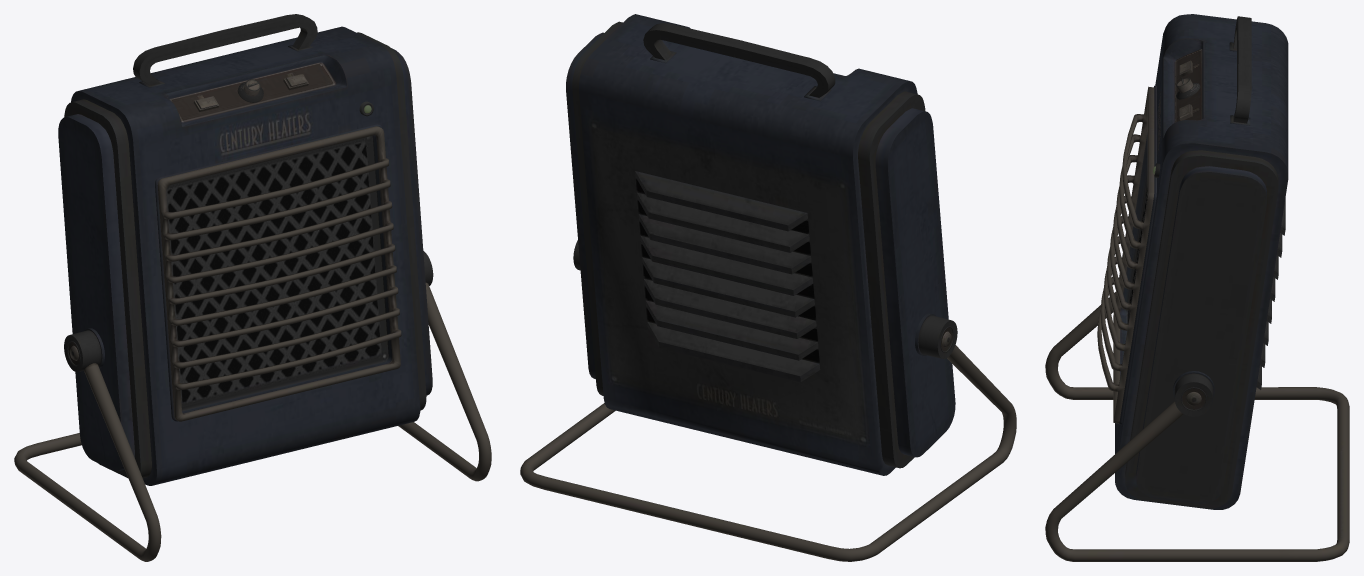
Rendered from space-heater.glb.
The picture shows the model from 3 angles, left to right: view 1: azimuth 30°, elevation 25°; view 2: azimuth 150°, elevation 25°; view 3: azimuth 270°, elevation 25°; orthographic projection. The views are drawn at different scales.
Visible parts, largest first — view 1: Object_2; view 2: Object_2; view 3: Object_2.
Boxes of the visible parts, <box> form: Object_2: <box>14,14,491,561</box>; Object_2: <box>520,14,1016,561</box>; Object_2: <box>1045,14,1349,561</box>.
Bounding box in the file's own units: 2.23 × 2.59 × 1.66.
1 material, 1 textured.
